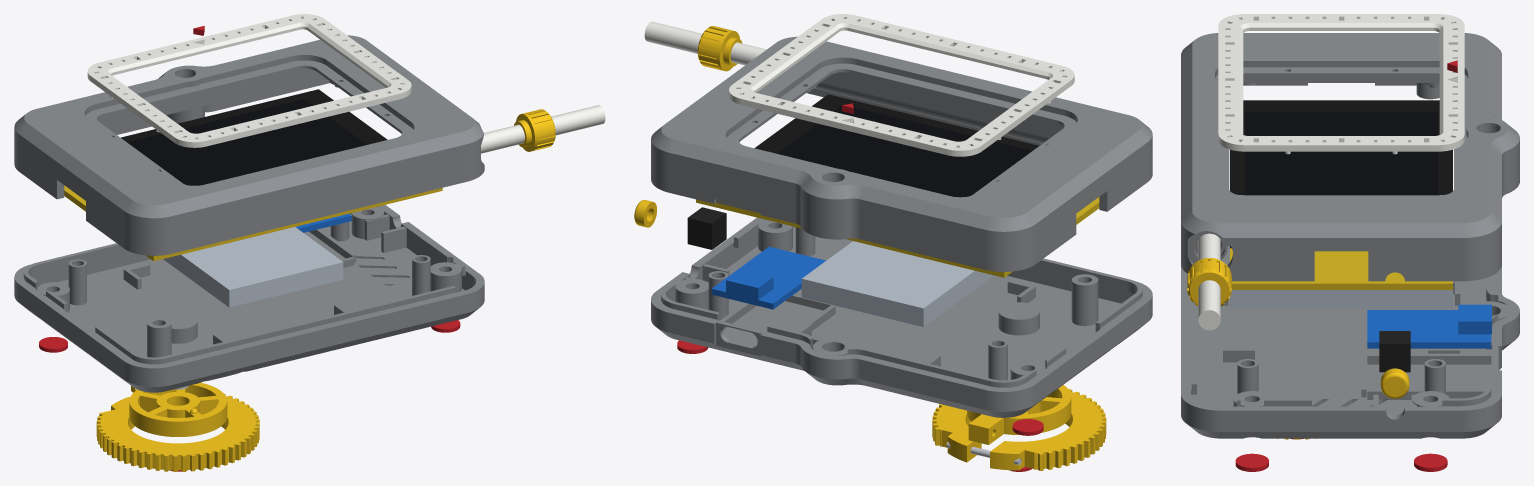
Rendered from patlatma.glb.
3 renders of one model, left to right at view 1: azimuth 30°, elevation 25°; view 2: azimuth 150°, elevation 25°; view 3: azimuth 270°, elevation 25°, orthographic. The views are drawn at different scales.
Parts seen in each view (by area): view 1: on_kasa, arka_kapak, panel, ekran, ic_pil, cark_halka, cark_gobek, ic_lcd, kalem, ic_kart, kurma_kolu; view 2: on_kasa, arka_kapak, panel, ekran, ic_pil, cark_halka, ic_tp4056, ic_lcd, cark_gobek, kalem, kurma_kolu, ic_kart (+1 smaller); view 3: on_kasa, arka_kapak, ekran, panel, ic_tp4056, ic_pil, ic_lcd, ic_kart, kalem, kurma_kolu, ic_anahtar, itici (+2 smaller).
Boxes of the visible parts, x1=… form: on_kasa: x1=14, y1=35, x2=484, y2=255; arka_kapak: x1=14, y1=205, x2=484, y2=392; panel: x1=87, y1=14, x2=411, y2=147; ekran: x1=127, y1=99, x2=366, y2=185; ic_pil: x1=163, y1=227, x2=343, y2=307; cark_halka: x1=96, y1=393, x2=259, y2=471; cark_gobek: x1=129, y1=382, x2=227, y2=436; ic_lcd: x1=121, y1=89, x2=387, y2=144; kalem: x1=481, y1=105, x2=605, y2=153; ic_kart: x1=64, y1=185, x2=442, y2=261; kurma_kolu: x1=514, y1=109, x2=555, y2=151; on_kasa: x1=651, y1=36, x2=1152, y2=271; arka_kapak: x1=651, y1=217, x2=1152, y2=417; panel: x1=729, y1=14, x2=1074, y2=156; ekran: x1=777, y1=106, x2=1031, y2=197; ic_pil: x1=801, y1=241, x2=993, y2=326; cark_halka: x1=932, y1=389, x2=1106, y2=470; ic_tp4056: x1=711, y1=246, x2=825, y2=309; ic_lcd: x1=754, y1=94, x2=1039, y2=153; cark_gobek: x1=967, y1=385, x2=1071, y2=444; kalem: x1=644, y1=21, x2=766, y2=65; kurma_kolu: x1=697, y1=26, x2=742, y2=71; ic_kart: x1=696, y1=197, x2=1099, y2=277; on_kasa: x1=1181, y1=33, x2=1519, y2=281; arka_kapak: x1=1181, y1=246, x2=1519, y2=438; ekran: x1=1245, y1=111, x2=1437, y2=195; panel: x1=1218, y1=14, x2=1464, y2=154; ic_tp4056: x1=1367, y1=304, x2=1491, y2=348; ic_pil: x1=1230, y1=290, x2=1452, y2=308; ic_lcd: x1=1230, y1=100, x2=1452, y2=248; ic_kart: x1=1230, y1=248, x2=1452, y2=289; kalem: x1=1198, y1=233, x2=1220, y2=330; kurma_kolu: x1=1187, y1=258, x2=1231, y2=306; ic_anahtar: x1=1379, y1=331, x2=1410, y2=372; itici: x1=1380, y1=368, x2=1409, y2=398.
Bounding box in the file's own units: 0.1404 × 0.1048 × 0.076.
